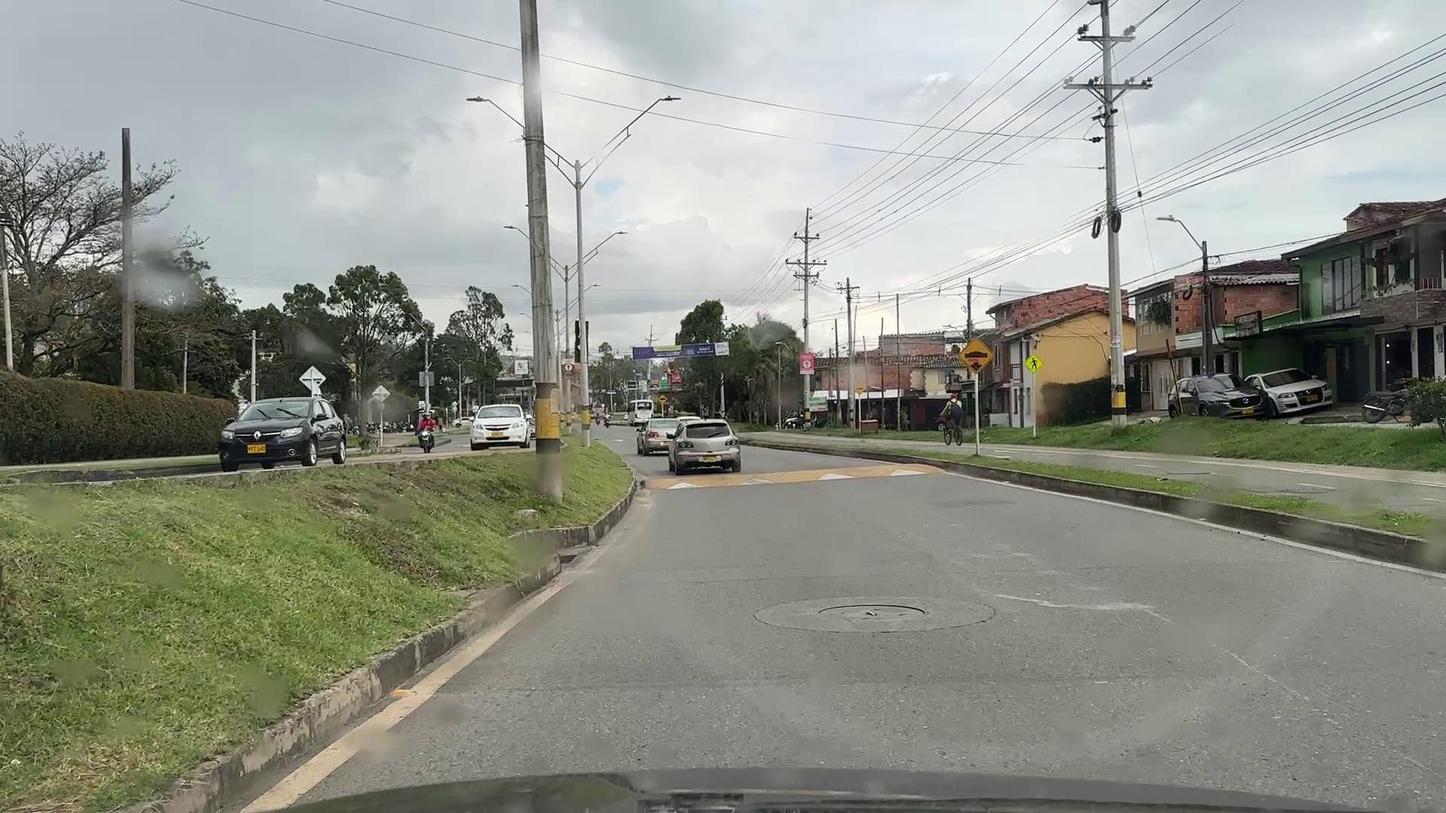registro: (818, 604, 925, 621)
rejilla: (559, 555, 578, 564)
